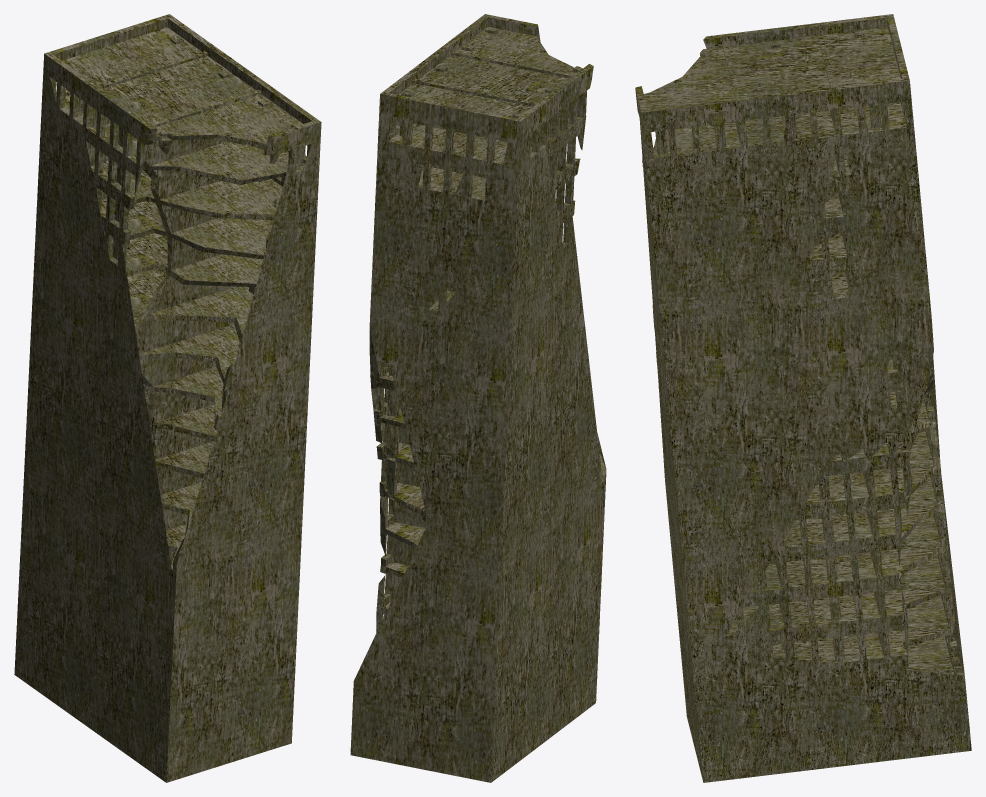
File: Building_2.fbx
The picture shows the model from 3 angles, left to right: view 1: azimuth 30°, elevation 25°; view 2: azimuth 150°, elevation 25°; view 3: azimuth 270°, elevation 25°; orthographic projection. The views are drawn at different scales.
Parts seen in each view (by area): view 1: Cube.003; view 2: Cube.003; view 3: Cube.003.
Boxes of the visible parts, x1=… form: Cube.003: x1=14, y1=14, x2=321, y2=782; Cube.003: x1=350, y1=14, x2=606, y2=782; Cube.003: x1=635, y1=14, x2=971, y2=782.
Bounding box in the file's own units: 583 × 2363 × 1042.
